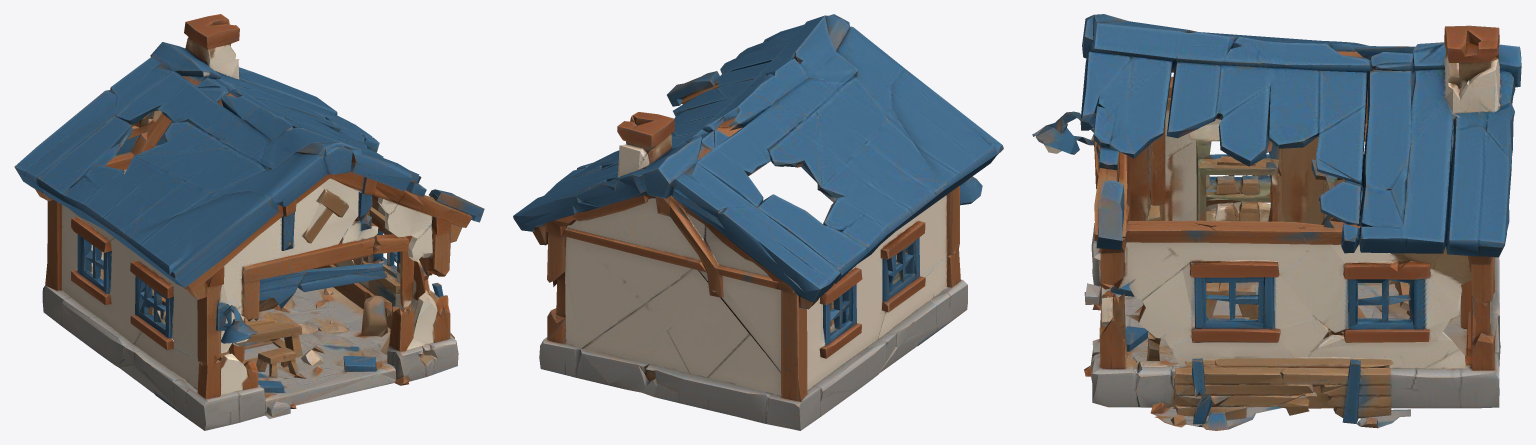
The model's file is workshopRuin.glb.
The picture shows the model from 3 angles, left to right: view 1: azimuth 30°, elevation 25°; view 2: azimuth 150°, elevation 25°; view 3: azimuth 270°, elevation 25°; orthographic projection. The views are drawn at different scales.
Visible parts, largest first — view 1: Mesh_0; view 2: Mesh_0; view 3: Mesh_0.
Boxes of the visible parts, x1,y1,x2,y2 form: Mesh_0: (14, 14, 484, 430); Mesh_0: (513, 14, 1003, 430); Mesh_0: (1032, 14, 1521, 430).
Bounding box in the file's own units: 2.83 × 2.16 × 3.
1 material, 1 textured.
